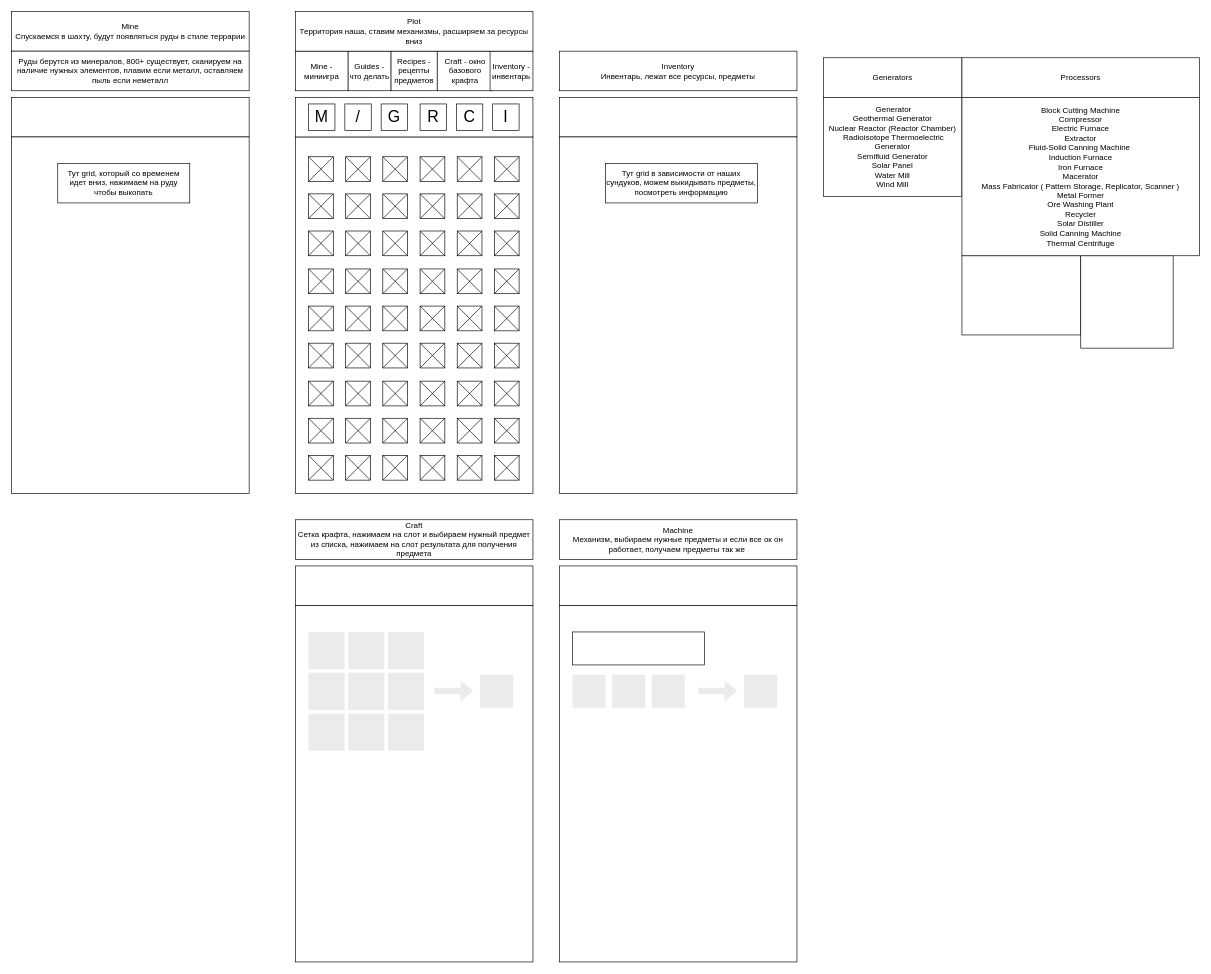
Some shapes in this 1211 by 974 pixel diagram are drawn without their labels. Each missing label, with the centre of its shape:
Crushed Ores Purified Crushed Ores Centrifuged Ores Dusts Small Dust Tiny Dusts: pixel 1021 295
Plates Dense Plates Wire Item Casings Gear Ring Rod: pixel 1126 301
Слоты в зависимости от механизма: pixel 638 648
